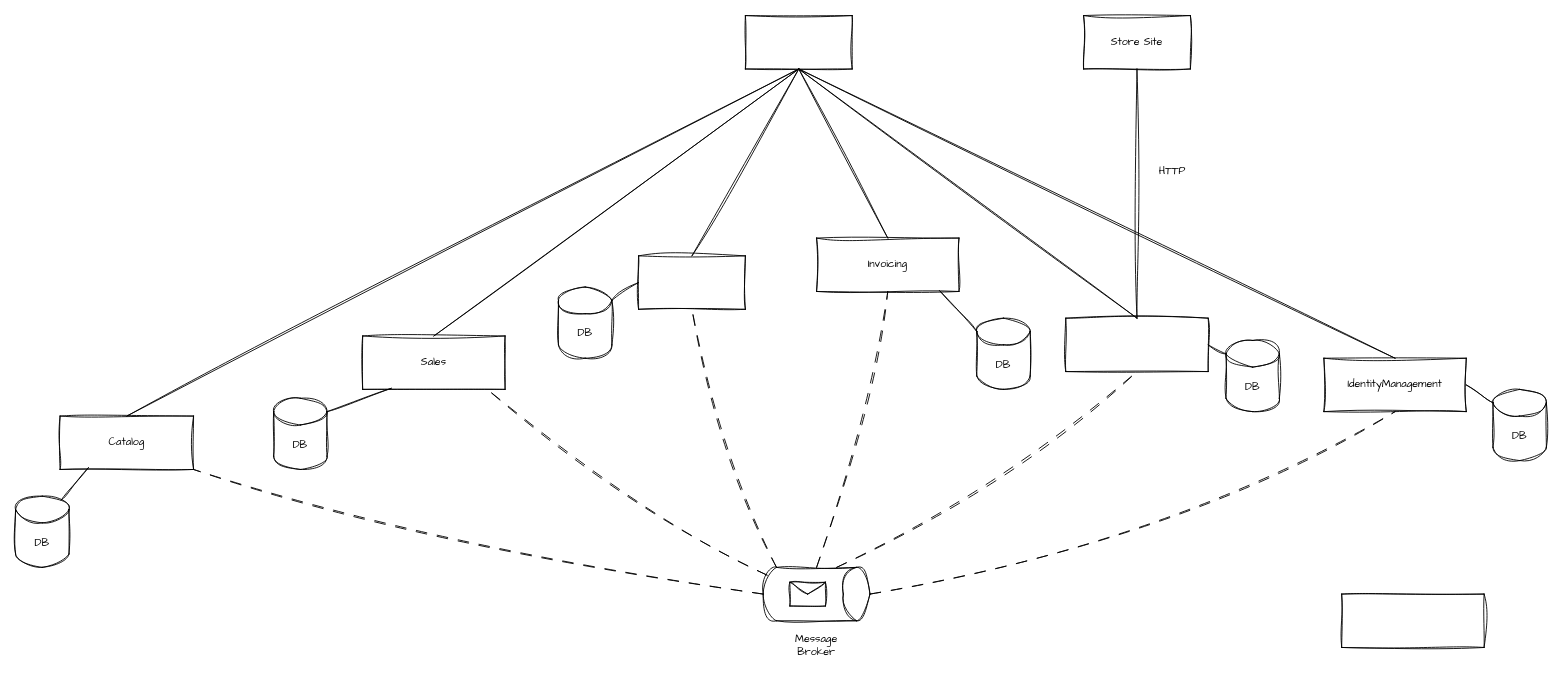
The diagram is 1562 pixels wide and 675 high, and some of its shapes have lost their labels. The centre of each missing label's shape, as x and y in pixels:
"AppService" goes at pixel 691 282.
"Blob Storage" goes at pixel 1412 620.
"Portal" goes at pixel 798 42.
"StoreFront" goes at pixel 1136 344.
